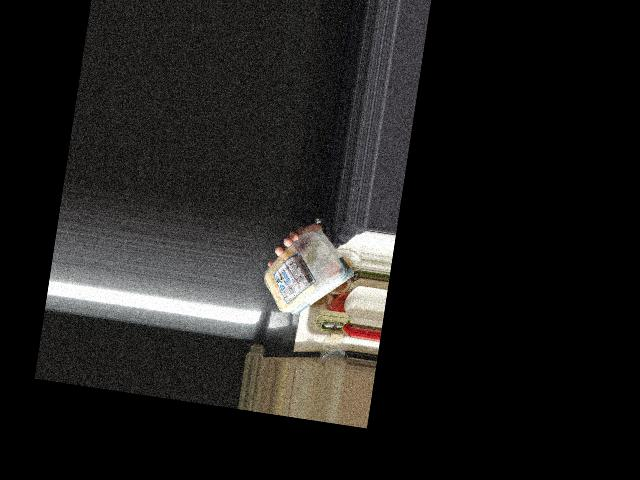cheese: (264, 224, 346, 321)
